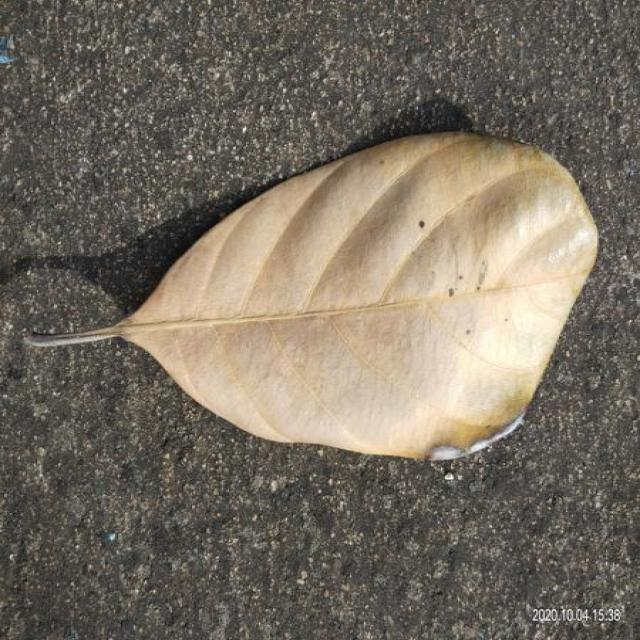Jackfruit: (32, 134, 597, 459)
dieback: (28, 132, 597, 459)
